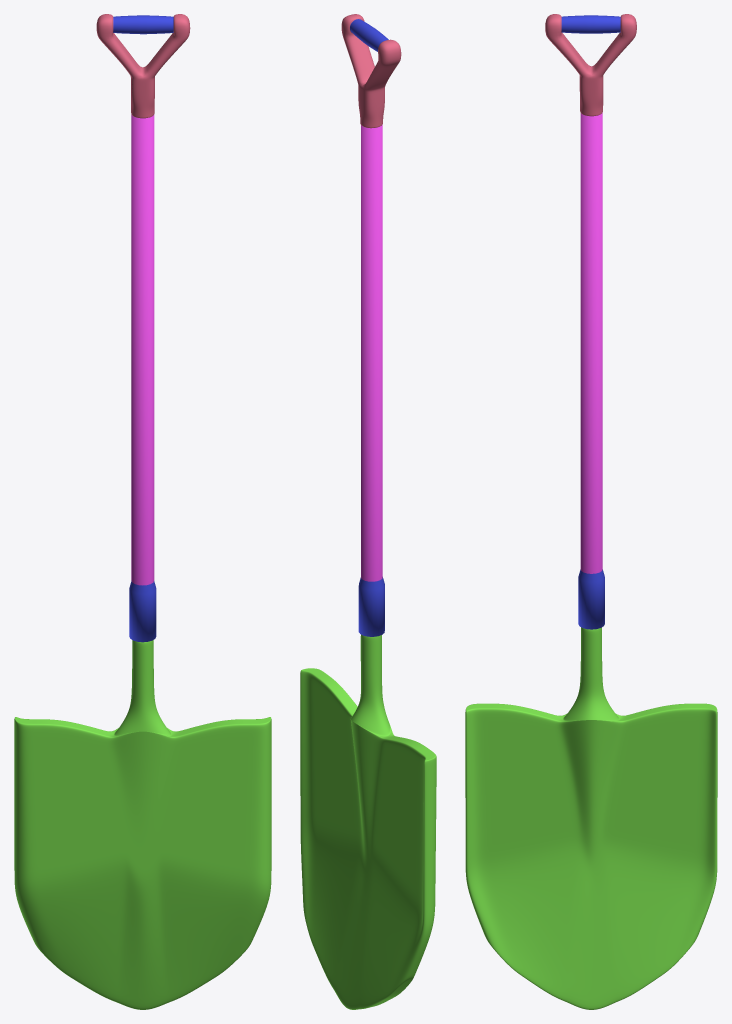
Rendered from Pala.fbx.
3 views of the same model, side by side, from view 1: azimuth 90°, elevation 25°; view 2: azimuth 210°, elevation 25°; view 3: azimuth 270°, elevation 25° (orthographic). The views are drawn at different scales.
Parts seen in each view (by area): view 1: Pala, Cylinder, Cube; view 2: Pala, Cylinder, Cube; view 3: Pala, Cylinder, Cube.
Boxes of the visible parts, bbox=[...] form: Pala: bbox=[14, 640, 271, 1009]; Cylinder: bbox=[129, 114, 156, 642]; Cube: bbox=[96, 14, 190, 118]; Pala: bbox=[300, 634, 436, 1009]; Cylinder: bbox=[358, 125, 384, 636]; Cube: bbox=[341, 14, 401, 128]; Pala: bbox=[465, 627, 717, 1009]; Cylinder: bbox=[578, 113, 604, 629]; Cube: bbox=[545, 14, 636, 116].
Bounding box in the file's own units: 4.48 × 110 × 25.64.
